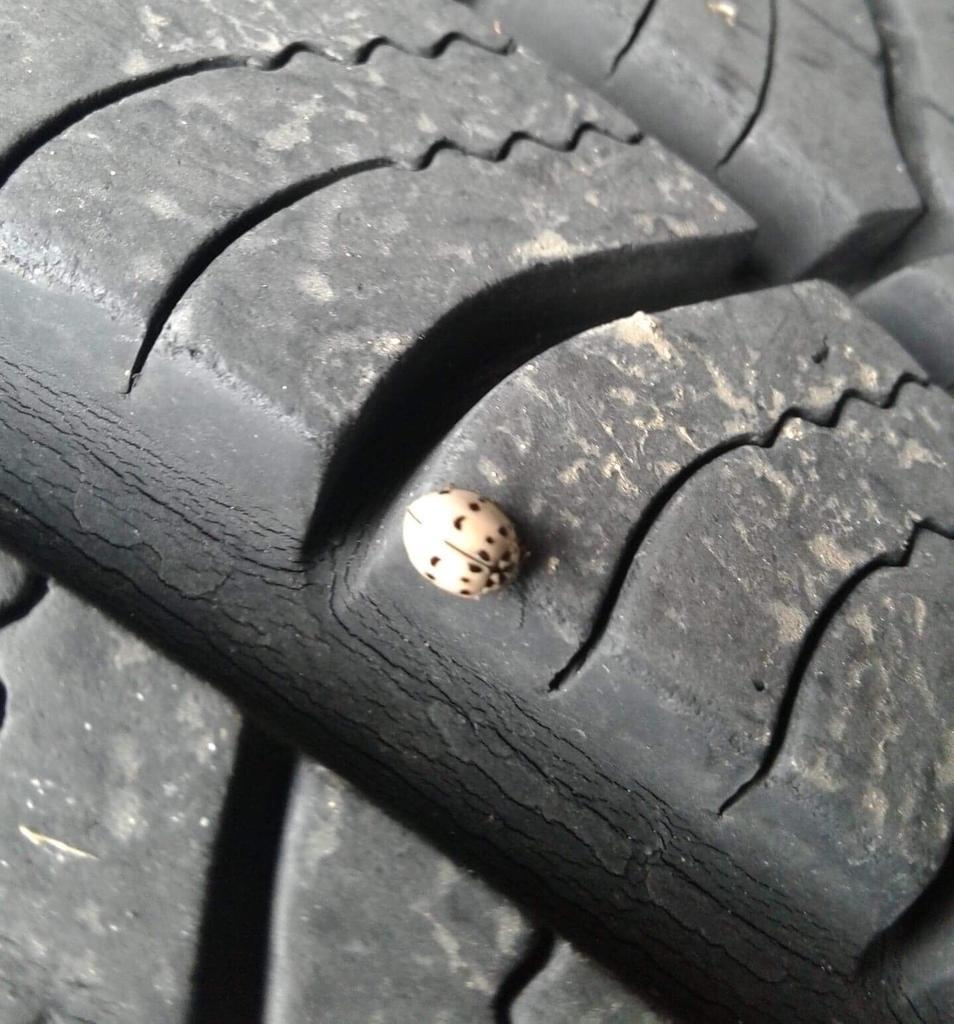ladybug: (396, 484, 539, 606)
